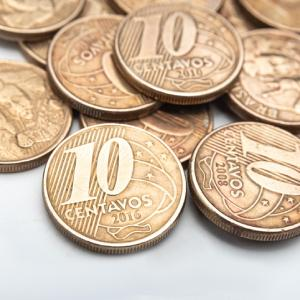10 cent: (41, 122, 187, 254), (187, 120, 299, 242), (113, 3, 241, 105)
